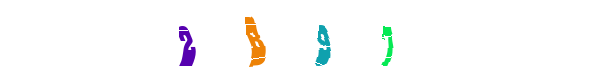2: (147, 0, 227, 80)
7: (308, 0, 388, 80)
9: (266, 0, 346, 80)
B: (215, 0, 295, 80)
